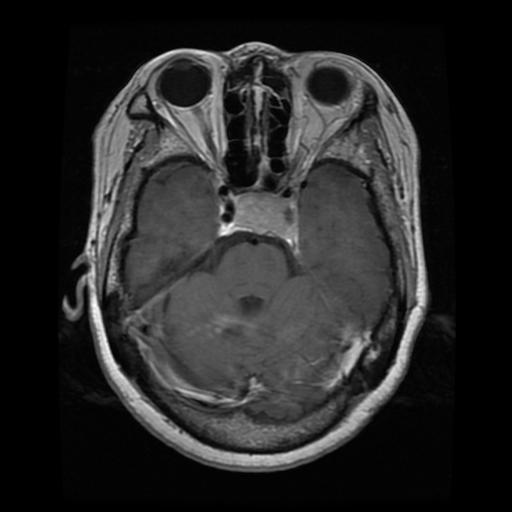Pituirity_tumour: (231, 193, 288, 234)
